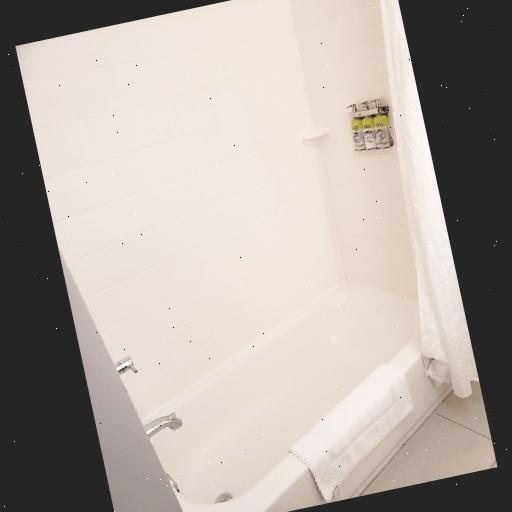clean_bathtub: (132, 277, 442, 512)
